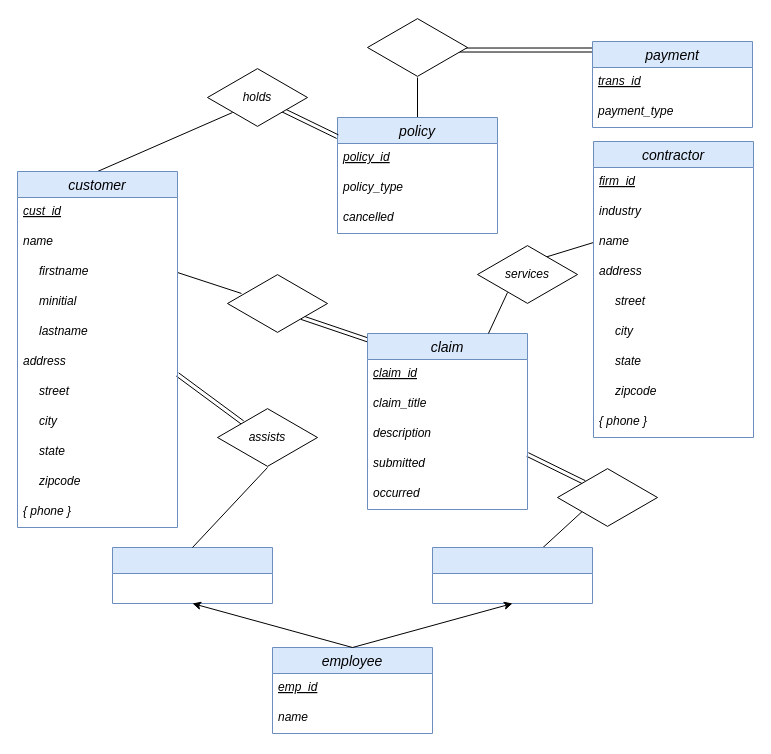
This 771x754 diagram has some shape labels left out. The centre of each missing label's shape, as x and y in pixels:
adjuster: the point at 512,575
agent: the point at 192,575
makes: the point at 277,303
manages: the point at 607,497
pays: the point at 417,47
